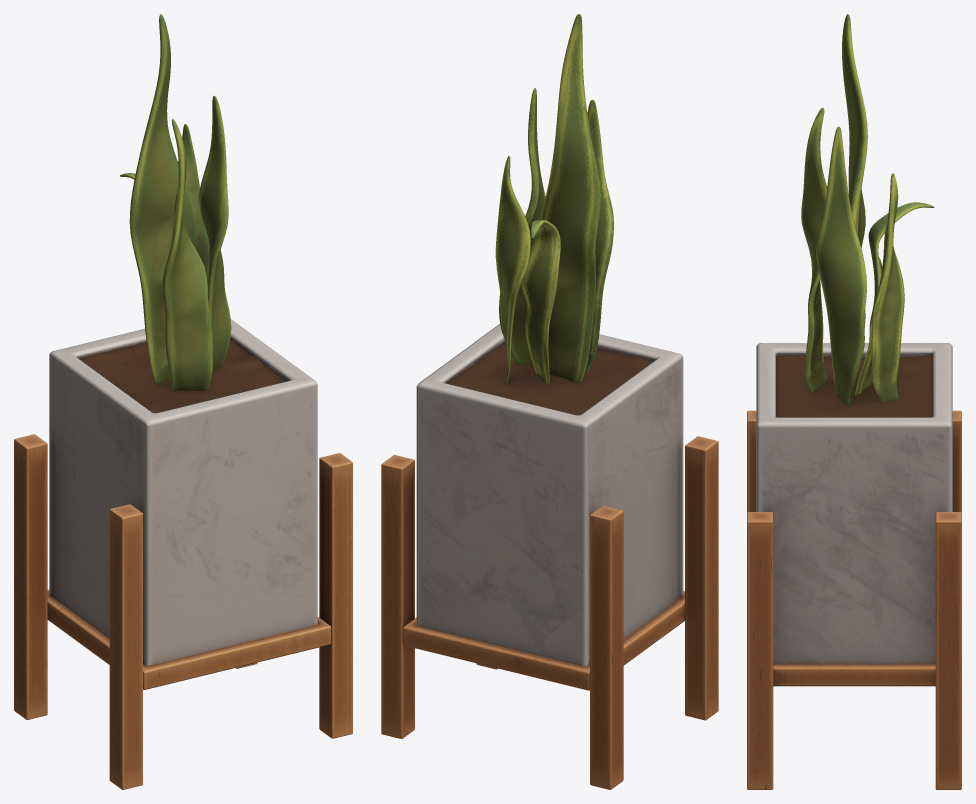
File: cayluoiho.glb
The picture shows the model from 3 angles, left to right: view 1: azimuth 30°, elevation 25°; view 2: azimuth 150°, elevation 25°; view 3: azimuth 270°, elevation 25°; orthographic projection.
Visible parts, largest first — view 1: polySurface9; view 2: polySurface9; view 3: polySurface9.
Boxes of the visible parts, x1,y1,x2,y2 form: polySurface9: (14, 14, 352, 789); polySurface9: (381, 14, 718, 789); polySurface9: (747, 14, 961, 789).
Size of the model in its own units: 4.15 by 12.29 by 3.38.
Materials: 1 (1 with a texture image).
